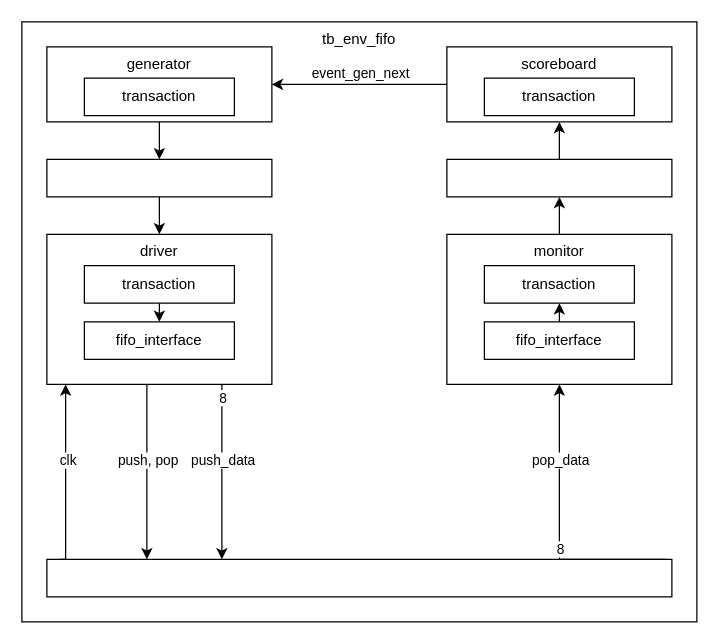
This 719x644 diagram has some shape labels left out. The shapes that lost their labels are listed below. From the top down, each one's centre as x and y in pixels, then its label:
At pixel 159 177: "mailbox gen2drv".
At pixel 559 177: "mailbox mon2scb".
At pixel 359 577: "dut_fifo".
